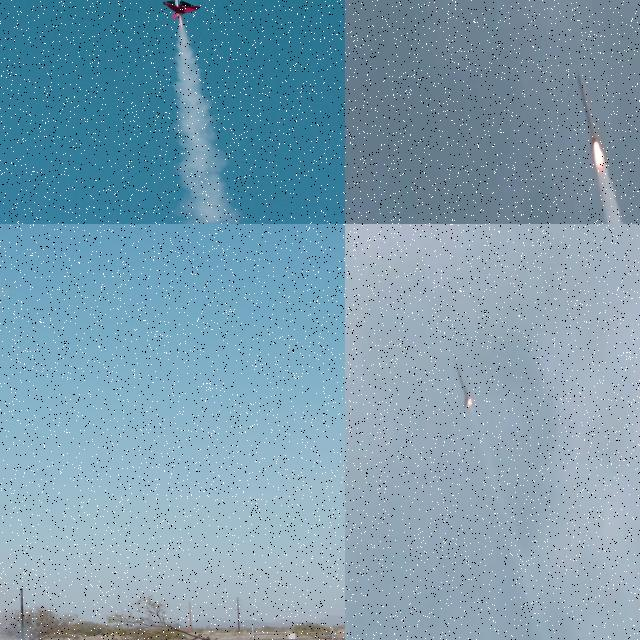Rocket: (578, 69, 598, 143), (160, 0, 201, 20), (457, 365, 468, 408)
